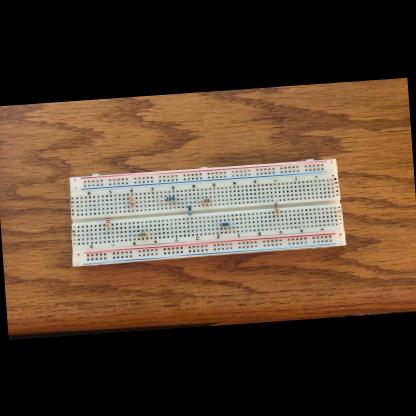breadboard: (66, 156, 346, 266)
resistor: (274, 200, 280, 210), (105, 214, 110, 226), (130, 194, 134, 205), (138, 230, 149, 234), (220, 221, 230, 225), (188, 204, 192, 214), (200, 198, 210, 202), (166, 196, 176, 199)
wire: (176, 196, 186, 199), (157, 198, 166, 200), (190, 214, 192, 222), (190, 196, 192, 204), (276, 211, 278, 216), (133, 233, 138, 235), (132, 206, 134, 210), (149, 232, 156, 233), (275, 195, 276, 200), (230, 223, 234, 224), (130, 192, 132, 194), (216, 224, 220, 225), (198, 200, 201, 201), (211, 199, 212, 200), (108, 226, 108, 232), (108, 211, 108, 214)
